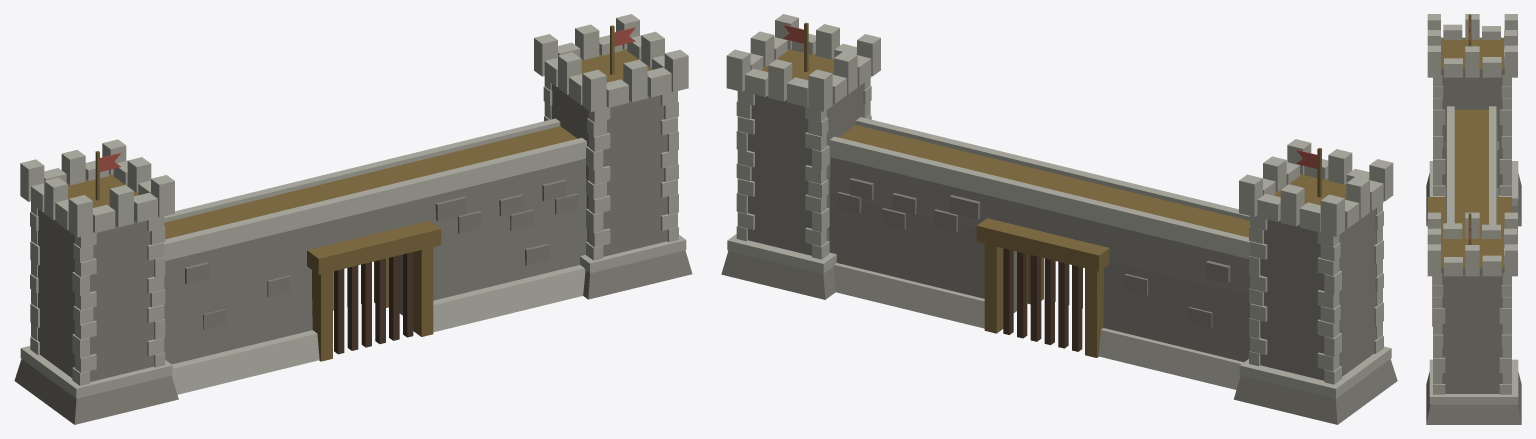
The model's file is castle-gate.glb.
3 renders of one model, left to right at view 1: azimuth 30°, elevation 25°; view 2: azimuth 150°, elevation 25°; view 3: azimuth 270°, elevation 25°, orthographic. The views are drawn at different scales.
Parts seen in each view (by area): view 1: WallTowers_DoorClosed_SecondAge; view 2: WallTowers_DoorClosed_SecondAge; view 3: WallTowers_DoorClosed_SecondAge.
Part boxes in pixels (<box>): WallTowers_DoorClosed_SecondAge: <box>14,14,692,424</box>; WallTowers_DoorClosed_SecondAge: <box>721,14,1397,424</box>; WallTowers_DoorClosed_SecondAge: <box>1426,14,1521,424</box>.
Size of the model in its own units: 1.98 by 0.7372 by 0.3334.
Materials: 1 (1 with a texture image).
